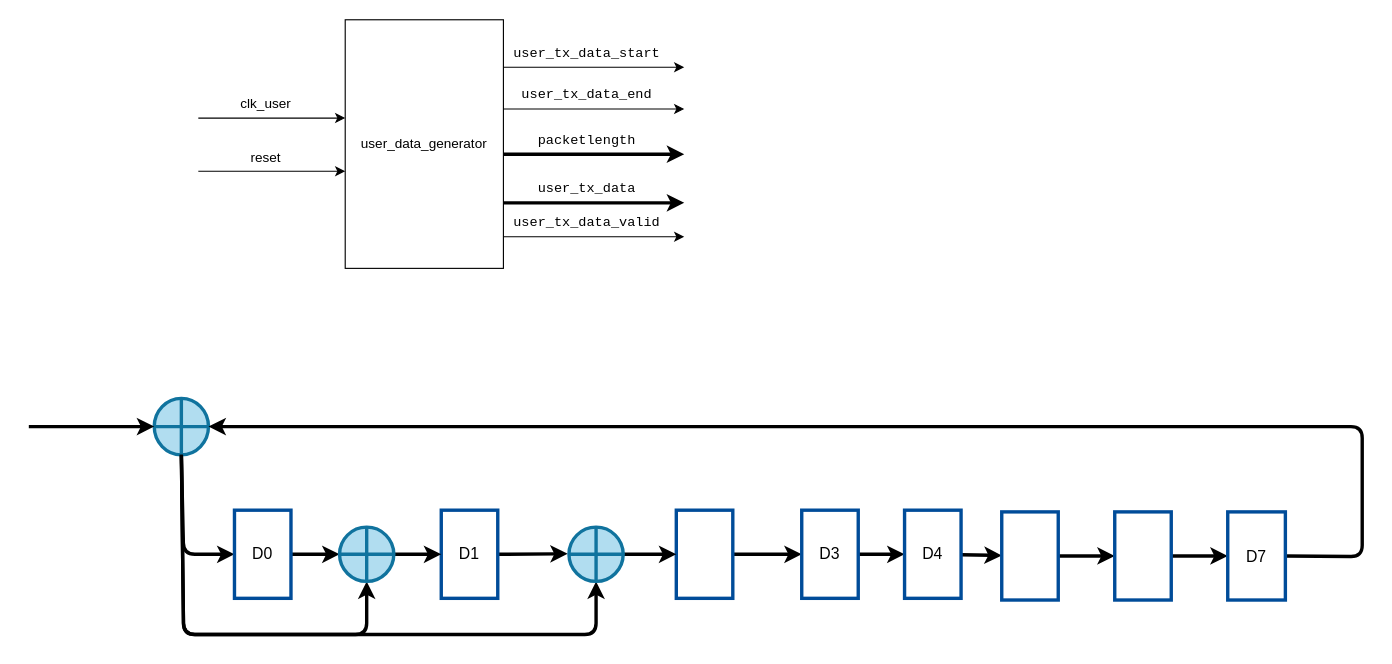
This 1392x664 diagram has some shape labels left out. The shapes that lost their labels are listed below. From the top down, each one's centre as x and y in pixels, then its label:
point (704, 553): D2
point (1029, 555): D5
point (1142, 555): D6
